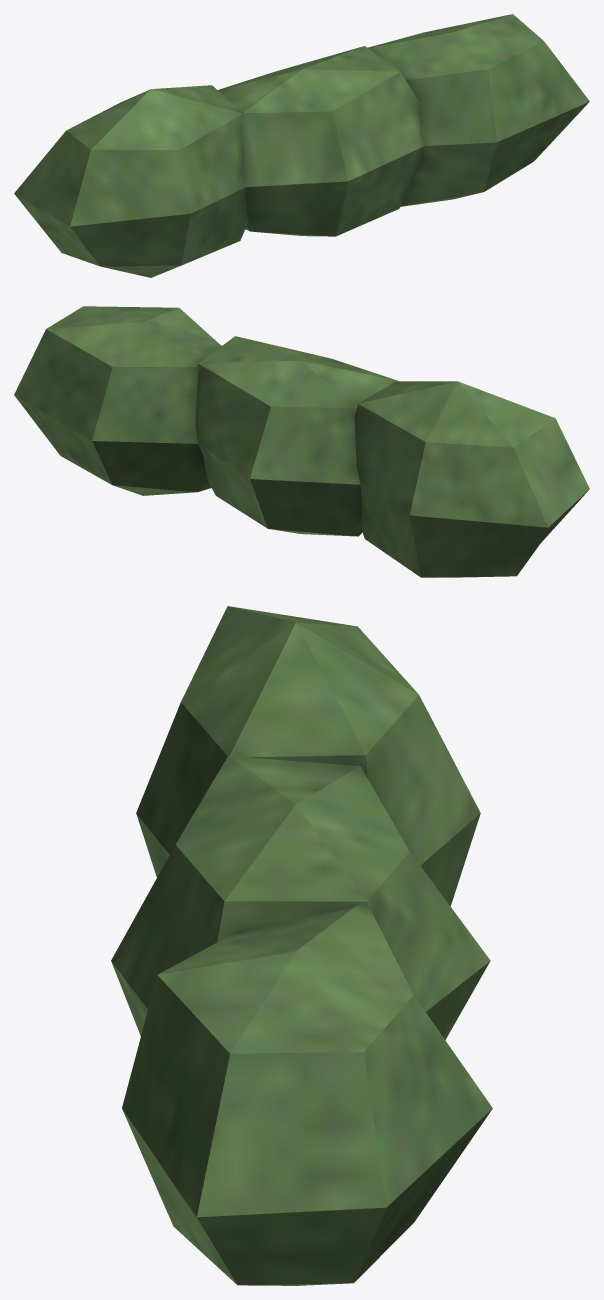
Rendered from SM_Hedge.fbx.
3 views of the same model, one above another, from view 1: azimuth 30°, elevation 25°; view 2: azimuth 150°, elevation 25°; view 3: azimuth 270°, elevation 25° (orthographic). The views are drawn at different scales.
Visible parts, largest first — view 1: SM_Hedge; view 2: SM_Hedge; view 3: SM_Hedge.
Boxes of the visible parts, left/top/right/bottom form: SM_Hedge: left=14, top=14, right=589, bottom=277; SM_Hedge: left=14, top=306, right=589, bottom=577; SM_Hedge: left=111, top=606, right=492, bottom=1285.
Bounding box in the file's own units: 696 × 239 × 219.
1 material, 1 textured.
